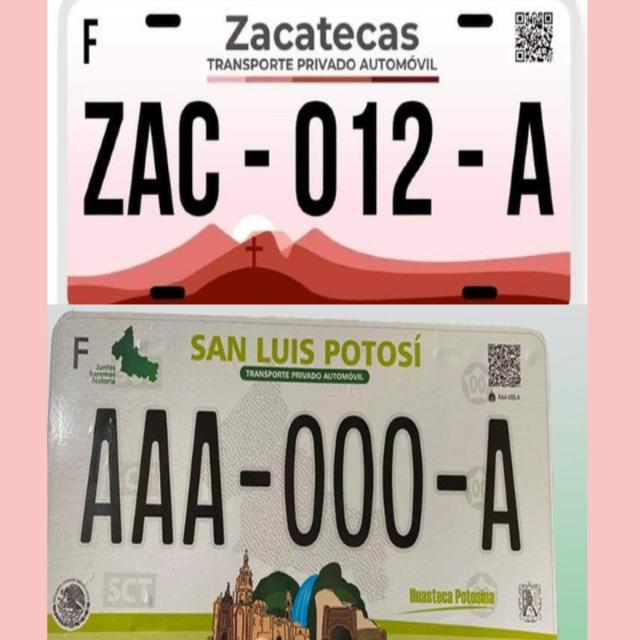placa: (50, 388, 545, 568), (68, 83, 577, 231)
